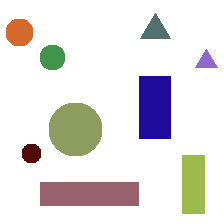circle: (49, 103, 101, 155), (6, 19, 32, 45), (40, 45, 64, 69), (22, 144, 40, 162)
rectangle: (40, 182, 138, 205), (139, 76, 170, 138), (182, 155, 204, 213)
triangle: (140, 13, 170, 38), (195, 49, 217, 67)
